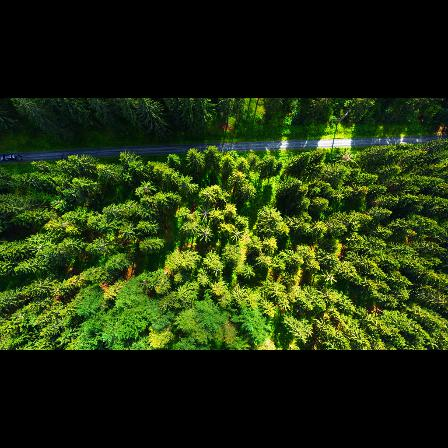Sick: (199, 226, 214, 242), (140, 181, 153, 196), (200, 206, 212, 222), (124, 200, 137, 213), (230, 229, 244, 241)
